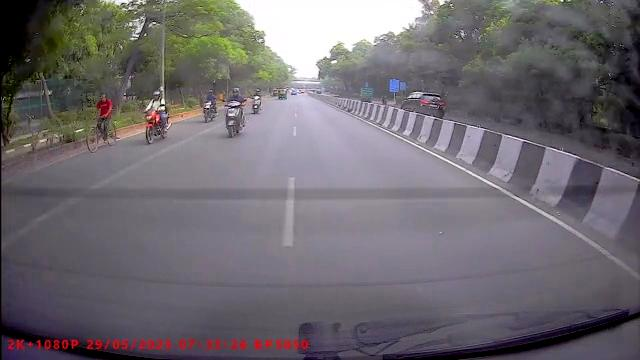motorcycle_with_helmet: (142, 87, 170, 146), (223, 86, 247, 139)
